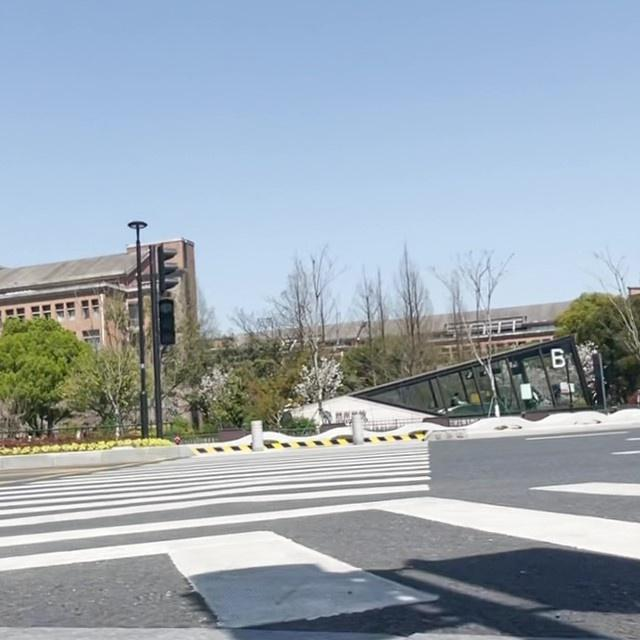curb: (0, 447, 191, 471)
